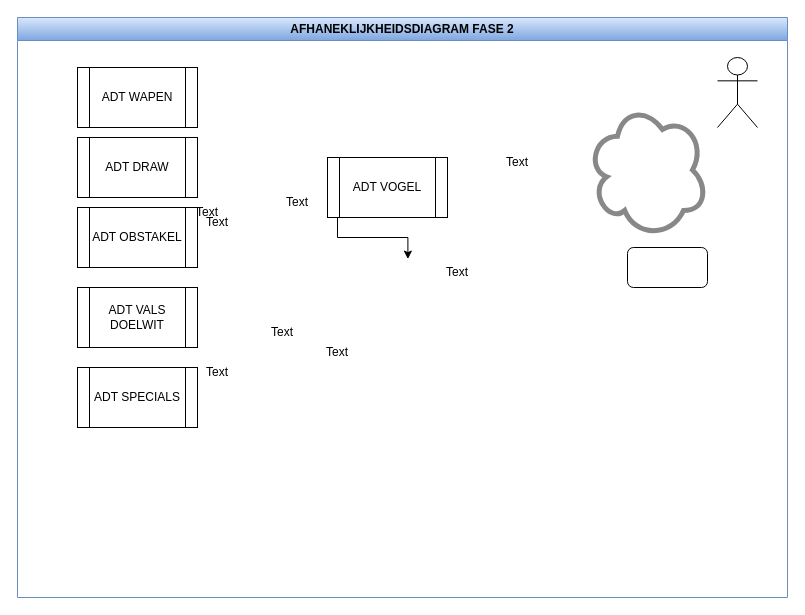
The diagram is 805 pixels wide and 615 high, and some of its shapes have lost their labels. The shapes that lost their labels are listed below. From the top down, each one's centre as x and y in pixels, then its label:
At [737,92]: "Actor".
At [647,170]: "FASE 2".
At [667,267]: "Graphics.rkt".
